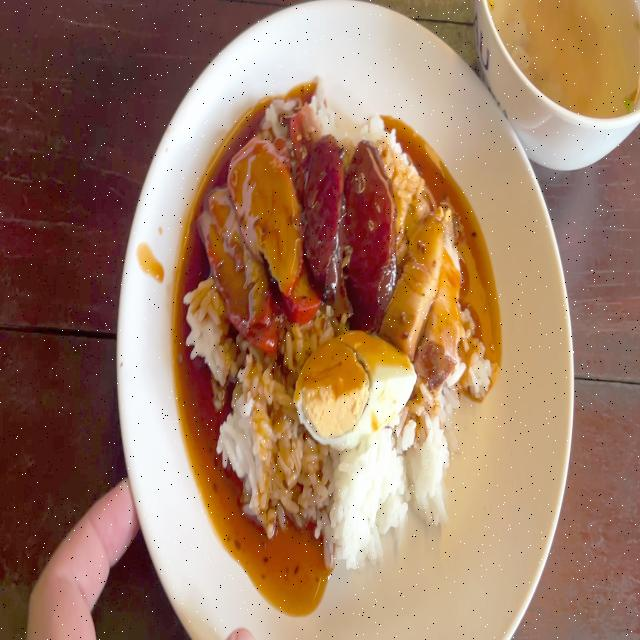boiled_egg: (296, 330, 414, 443)
chainese_sausage: (305, 137, 401, 306), (345, 135, 391, 318), (300, 133, 348, 308)
crispy_pork: (389, 199, 467, 371), (399, 221, 435, 351), (427, 237, 457, 363)
red_pork: (204, 139, 306, 345), (205, 196, 272, 339), (242, 134, 299, 278)
red_pork_and_crispy_pork: (189, 84, 487, 552)
rice: (297, 452, 453, 551), (202, 363, 293, 509), (187, 267, 230, 380)
